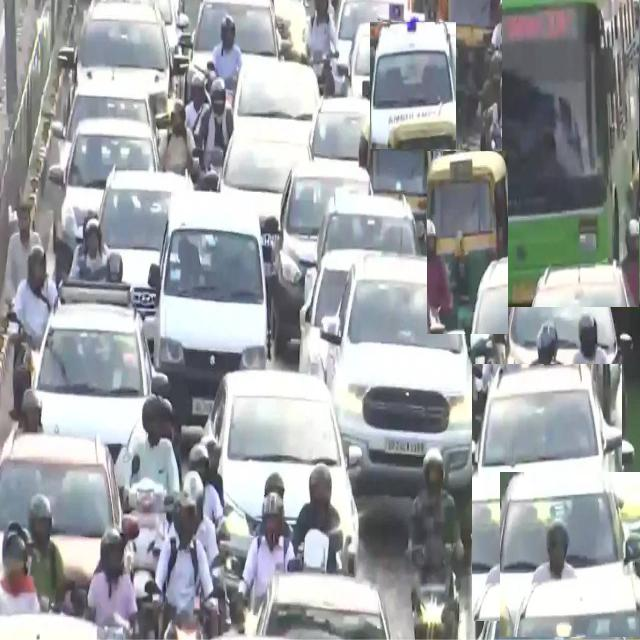autorickshaw: (428, 151, 508, 334)
bus: (502, 0, 640, 307)
car: (472, 365, 622, 621), (321, 256, 479, 489), (206, 371, 359, 566), (155, 193, 266, 423), (500, 473, 640, 637), (269, 158, 369, 351), (32, 304, 154, 460), (491, 264, 618, 406), (50, 120, 159, 262), (100, 169, 191, 316)
emergency: (370, 22, 456, 149)
